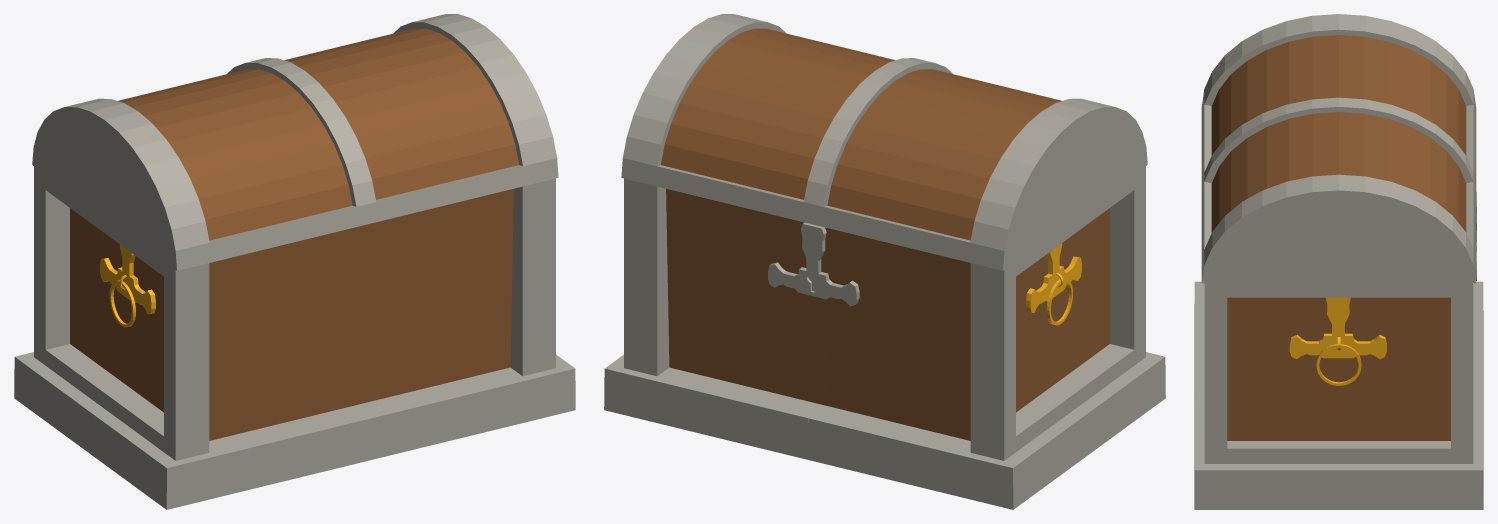
Rendered from Chest Half.fbx.
3 renders of one model, left to right at view 1: azimuth 30°, elevation 25°; view 2: azimuth 150°, elevation 25°; view 3: azimuth 270°, elevation 25°, orthographic. The views are drawn at different scales.
Visible parts, largest first — view 1: Cube.001, Cube, Cylinder.001, Cylinder, Circle.002; view 2: Cube.001, Cylinder.001, Cube, Cylinder, Plane, Circle.002; view 3: Cube, Cylinder, Cylinder.001, Circle.001, Cube.001.
Boxes of the visible parts, left/top/right/bottom form: Cube.001: left=14, top=166, right=371, bottom=509; Cube: left=354, top=178, right=575, bottom=459; Cylinder.001: left=32, top=60, right=367, bottom=270; Cylinder: left=255, top=14, right=558, bottom=224; Circle.002: left=100, top=245, right=155, bottom=327; Cube.001: left=808, top=166, right=1165, bottom=509; Cylinder.001: left=812, top=60, right=1147, bottom=270; Cube: left=604, top=178, right=825, bottom=459; Cylinder: left=621, top=14, right=924, bottom=224; Plane: left=768, top=222, right=859, bottom=306; Circle.002: left=1026, top=243, right=1081, bottom=325; Cube: left=1194, top=283, right=1483, bottom=509; Cylinder: left=1201, top=102, right=1476, bottom=283; Cylinder.001: left=1201, top=14, right=1476, bottom=194; Circle.001: left=1289, top=297, right=1386, bottom=385; Cube.001: left=1194, top=281, right=1483, bottom=404.
Size of the model in its own units: 333 by 257 by 215.
